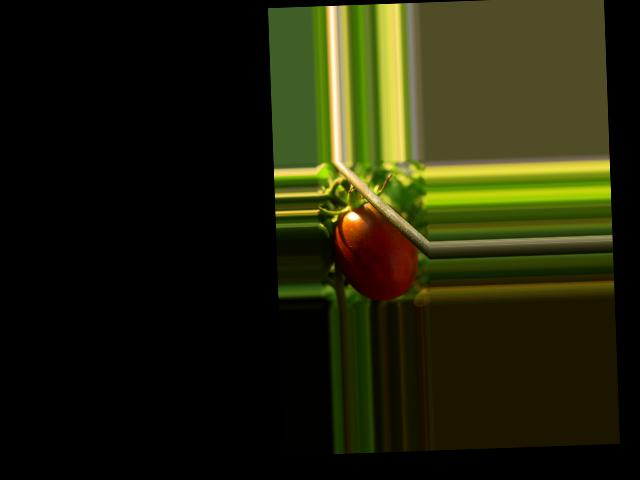tomato: (334, 201, 418, 301)
